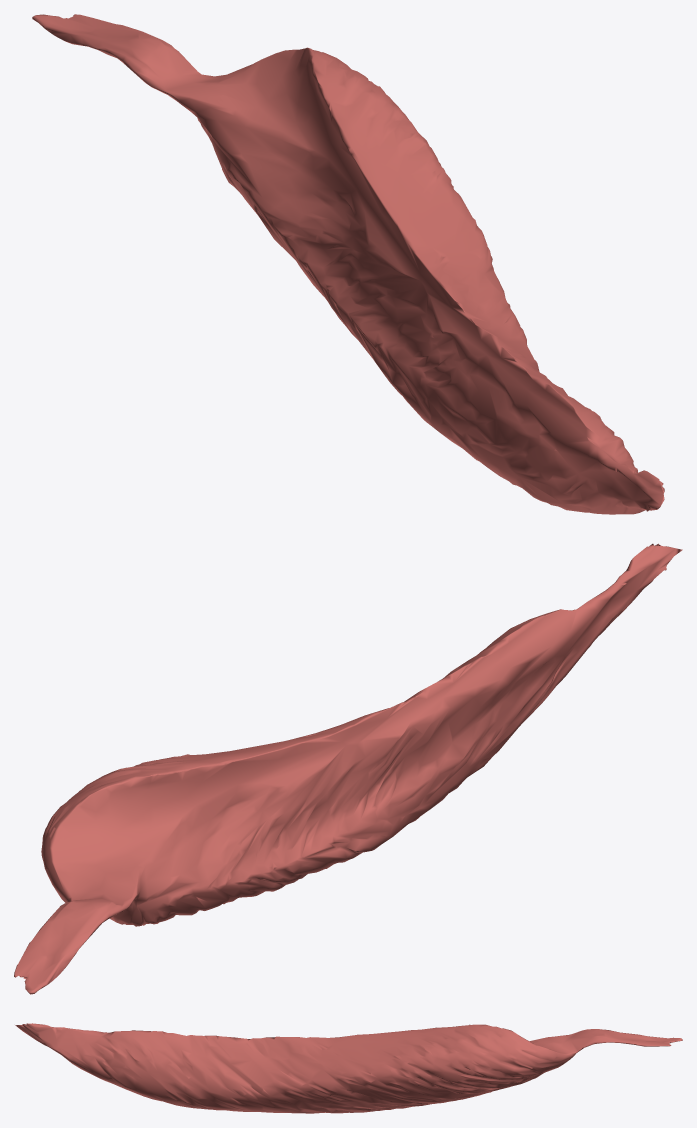
The picture shows the model from 3 angles, top to bottom: view 1: azimuth 30°, elevation 25°; view 2: azimuth 150°, elevation 25°; view 3: azimuth 270°, elevation 25°; orthographic projection. The views are drawn at different scales.
Visible parts, largest first — view 1: 右侧股内侧肌; view 2: 右侧股内侧肌; view 3: 右侧股内侧肌.
Part boxes in pixels (x1,y1,x2,y2): 右侧股内侧肌: (32,14,664,514); 右侧股内侧肌: (14,543,682,994); 右侧股内侧肌: (15,1023,682,1113).
Size of the model in its own units: 0.1055 by 0.1009 by 0.601.
